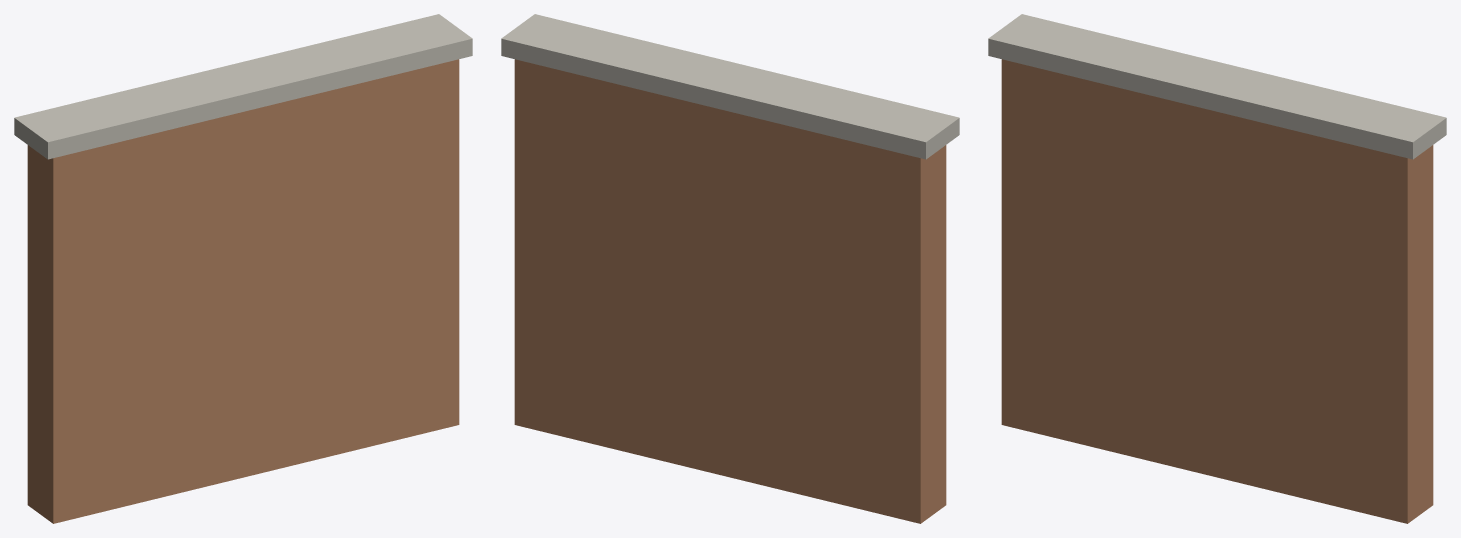
3 renders of one model, left to right at view 1: azimuth 30°, elevation 25°; view 2: azimuth 150°, elevation 25°; view 3: azimuth 330°, elevation 25°, orthographic.
Visible parts, largest first — view 1: QH-A0100_V02_geometry; view 2: QH-A0100_V02_geometry; view 3: QH-A0100_V02_geometry.
Part boxes in pixels (left/top/right/bottom): QH-A0100_V02_geometry: left=14, top=14, right=472, bottom=523; QH-A0100_V02_geometry: left=501, top=14, right=959, bottom=523; QH-A0100_V02_geometry: left=988, top=14, right=1446, bottom=523.
Bounding box in the file's own units: 3.35 × 2.91 × 0.46.
